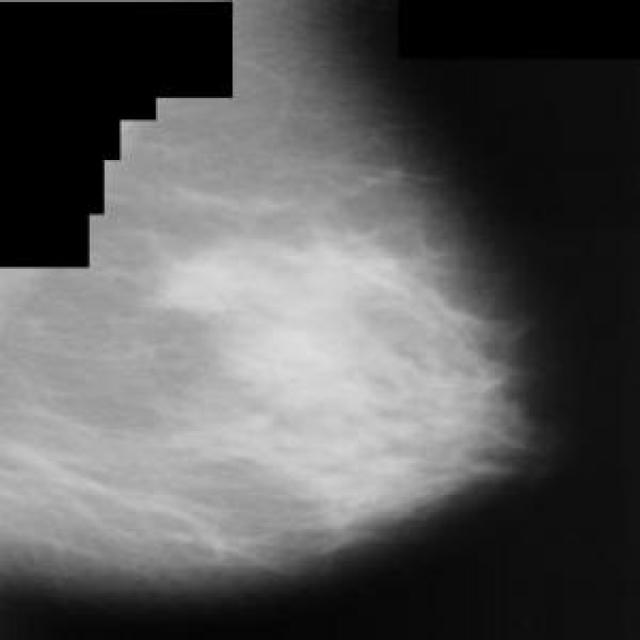tumor: (180, 222, 460, 516)
